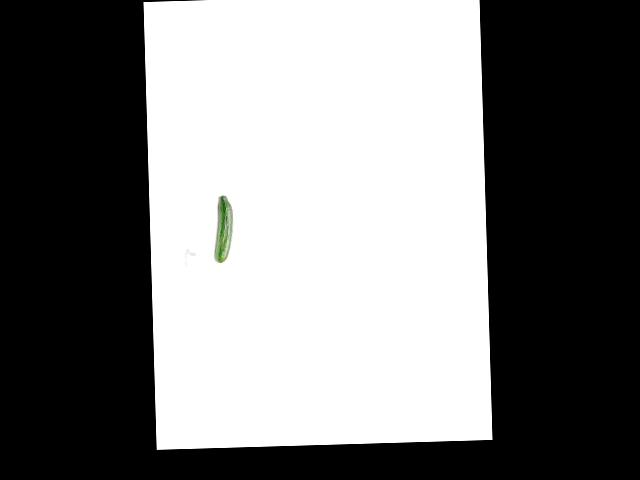cucumber: (213, 195, 233, 263)
